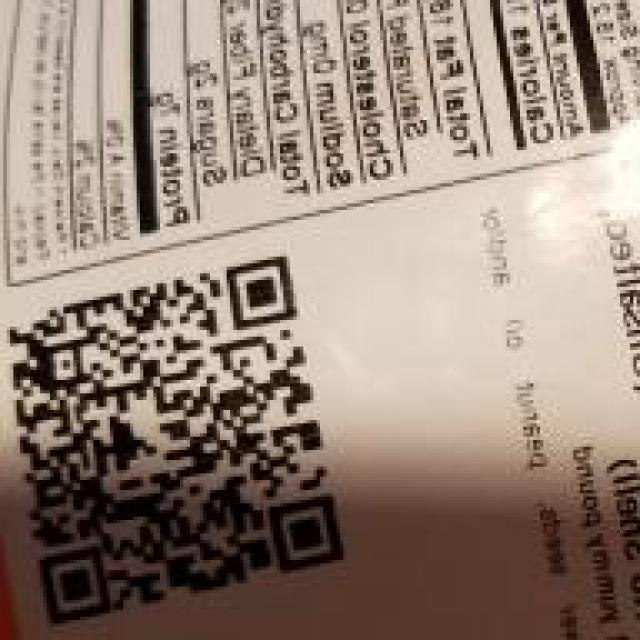qr_code: (8, 255, 347, 631)
